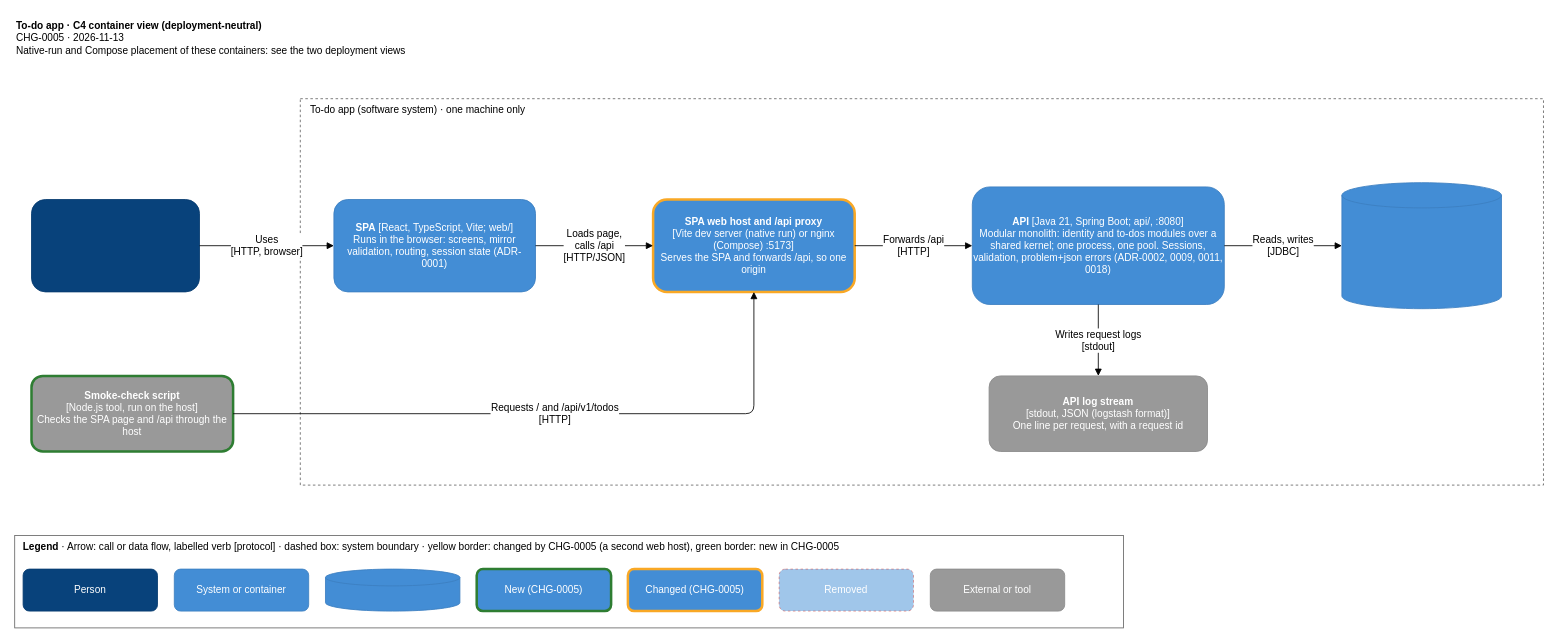
Image size: 1558x643. Some labels were removed from this diagram. Here are the shapes that lost their labels. From the top down, the centre of each, then its label:
the point at 115,245: User [Person] Uses the to-do app in a browser
the point at 1421,245: SQLite file [WAL; TODO_DB_PATH] users, sessions, todos (ADR-0003, 0014)
the point at 392,589: Datastore
